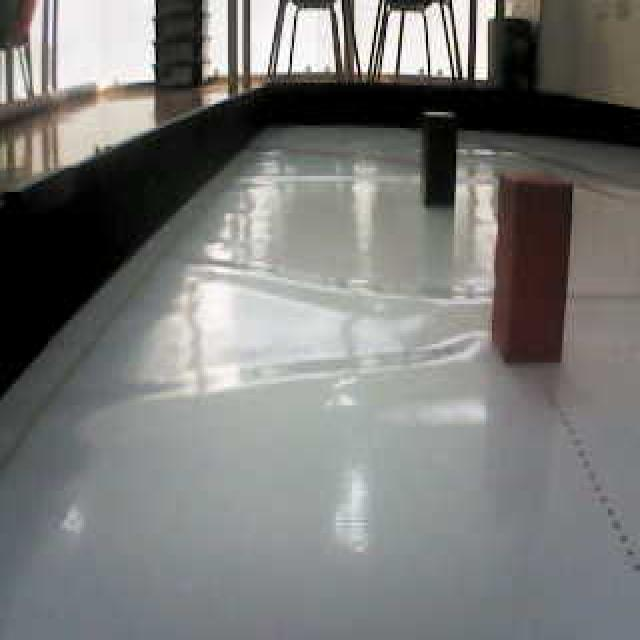rojo: (496, 162, 573, 368)
verde: (412, 98, 467, 226)
